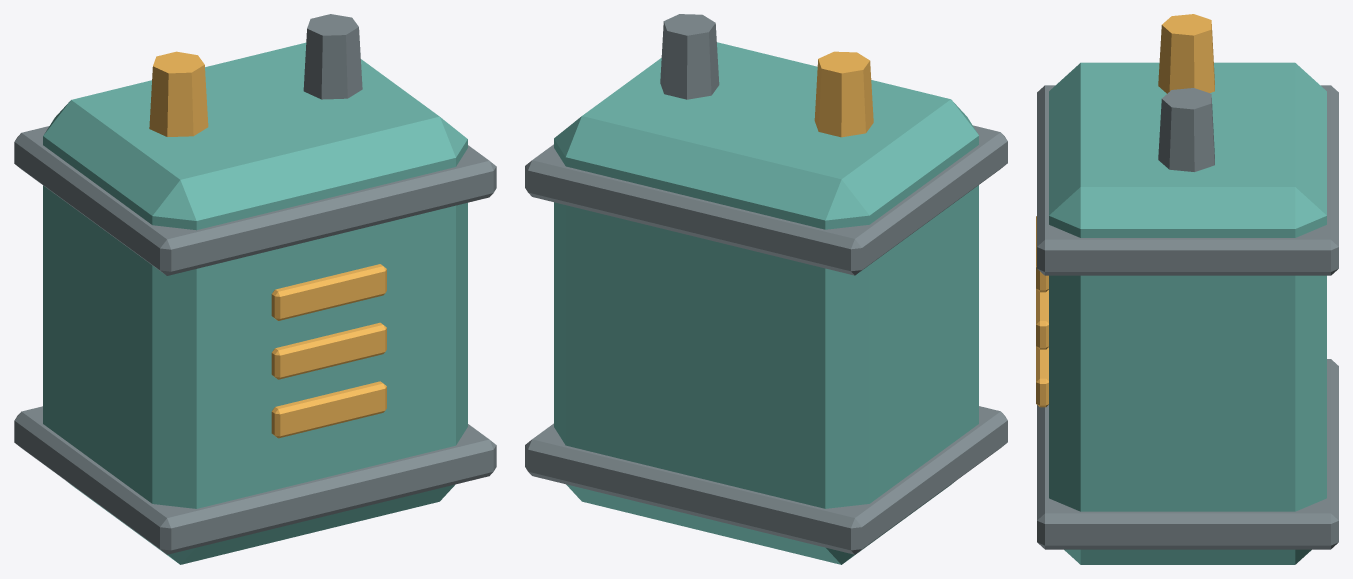
The model's file is CC_Battery.fbx.
3 views of the same model, side by side, from view 1: azimuth 30°, elevation 25°; view 2: azimuth 150°, elevation 25°; view 3: azimuth 270°, elevation 25° (orthographic).
Visible parts, largest first — view 1: Housing, Band.001, Band, Terminal.001, Terminal, Charge segment, Charge segment.002, Charge segment.001; view 2: Housing, Band.001, Band, Terminal.001, Terminal; view 3: Housing, Band.001, Band, Terminal.001, Terminal, Charge segment, Charge segment.001.
Part boxes in pixels (x1,y1,x2,y2): Housing: [43, 42, 467, 564]; Band.001: [14, 126, 496, 275]; Band: [14, 406, 496, 554]; Terminal.001: [303, 14, 362, 99]; Terminal: [149, 51, 208, 136]; Charge segment: [271, 381, 386, 438]; Charge segment.002: [271, 264, 386, 320]; Charge segment.001: [271, 322, 386, 379]; Housing: [554, 42, 978, 564]; Band.001: [525, 125, 1007, 275]; Band: [525, 406, 1007, 554]; Terminal.001: [660, 14, 719, 99]; Terminal: [814, 51, 873, 137]; Housing: [1049, 62, 1326, 564]; Band.001: [1037, 85, 1338, 275]; Band: [1037, 359, 1338, 549]; Terminal.001: [1158, 88, 1214, 171]; Terminal: [1158, 14, 1214, 93]; Charge segment: [1036, 346, 1048, 407]; Charge segment.001: [1036, 289, 1048, 349].
Size of the model in its own units: 0.96 by 1.22 by 0.7625.
